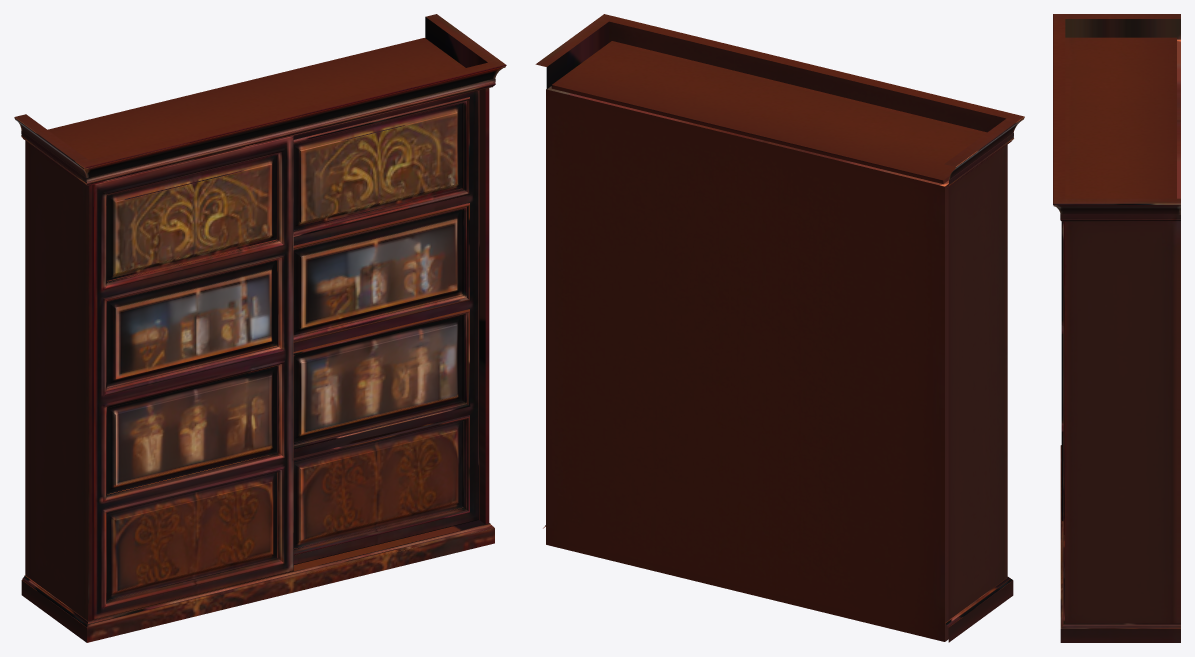
The model's file is edited_mesh.glb.
3 views of the same model, side by side, from view 1: azimuth 30°, elevation 25°; view 2: azimuth 150°, elevation 25°; view 3: azimuth 270°, elevation 25° (orthographic). The views are drawn at different scales.
Parts seen in each view (by area): view 1: normalized_model.obj; view 2: normalized_model.obj; view 3: normalized_model.obj.
Part boxes in pixels (bbox=[...]): normalized_model.obj: bbox=[14, 14, 506, 642]; normalized_model.obj: bbox=[535, 14, 1024, 642]; normalized_model.obj: bbox=[1053, 14, 1180, 642].
Bounding box in the file's own units: 1.26 × 1.37 × 0.359.
1 material, 1 textured.
